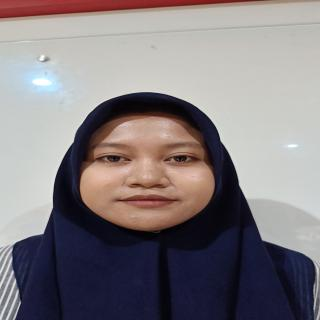Netral: (73, 106, 221, 236)
